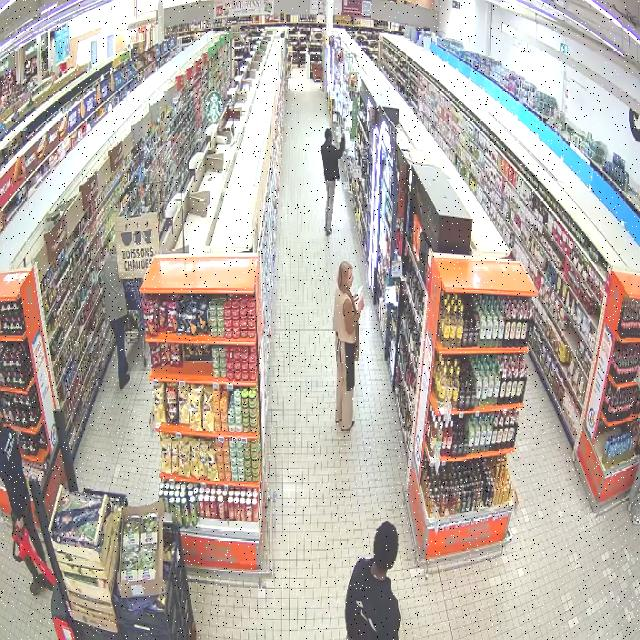hands: (357, 298, 365, 312), (16, 518, 23, 530), (341, 134, 345, 141)
person: (345, 521, 400, 639), (0, 427, 44, 561), (333, 261, 363, 430), (103, 247, 129, 389), (320, 128, 345, 234)
